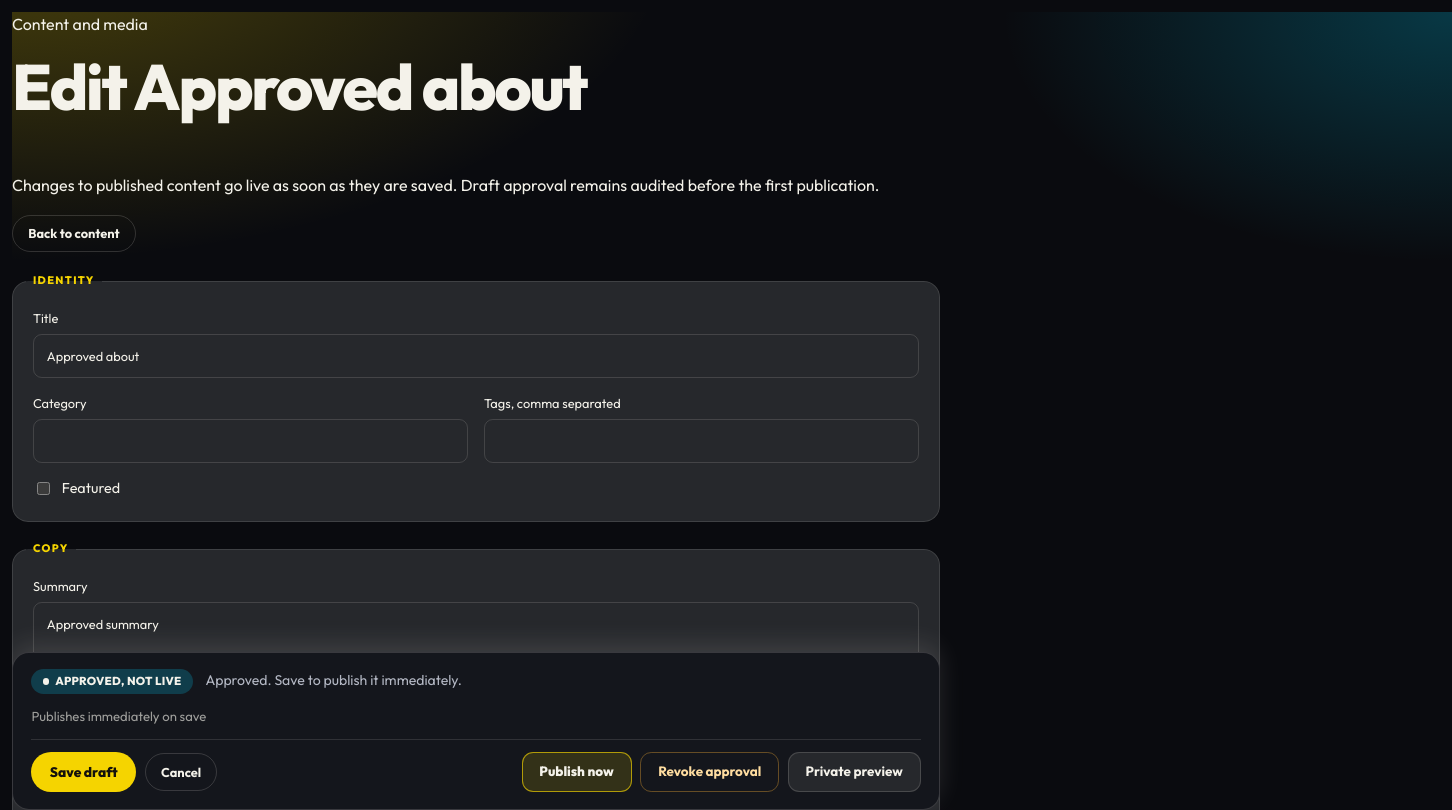
Test case: prepares deterministic cache invalidation after publication and reports queue failure
This screenshot has width=1452, height=810.
Click the button "Publish now": click(576, 772) [522, 752, 632, 792]
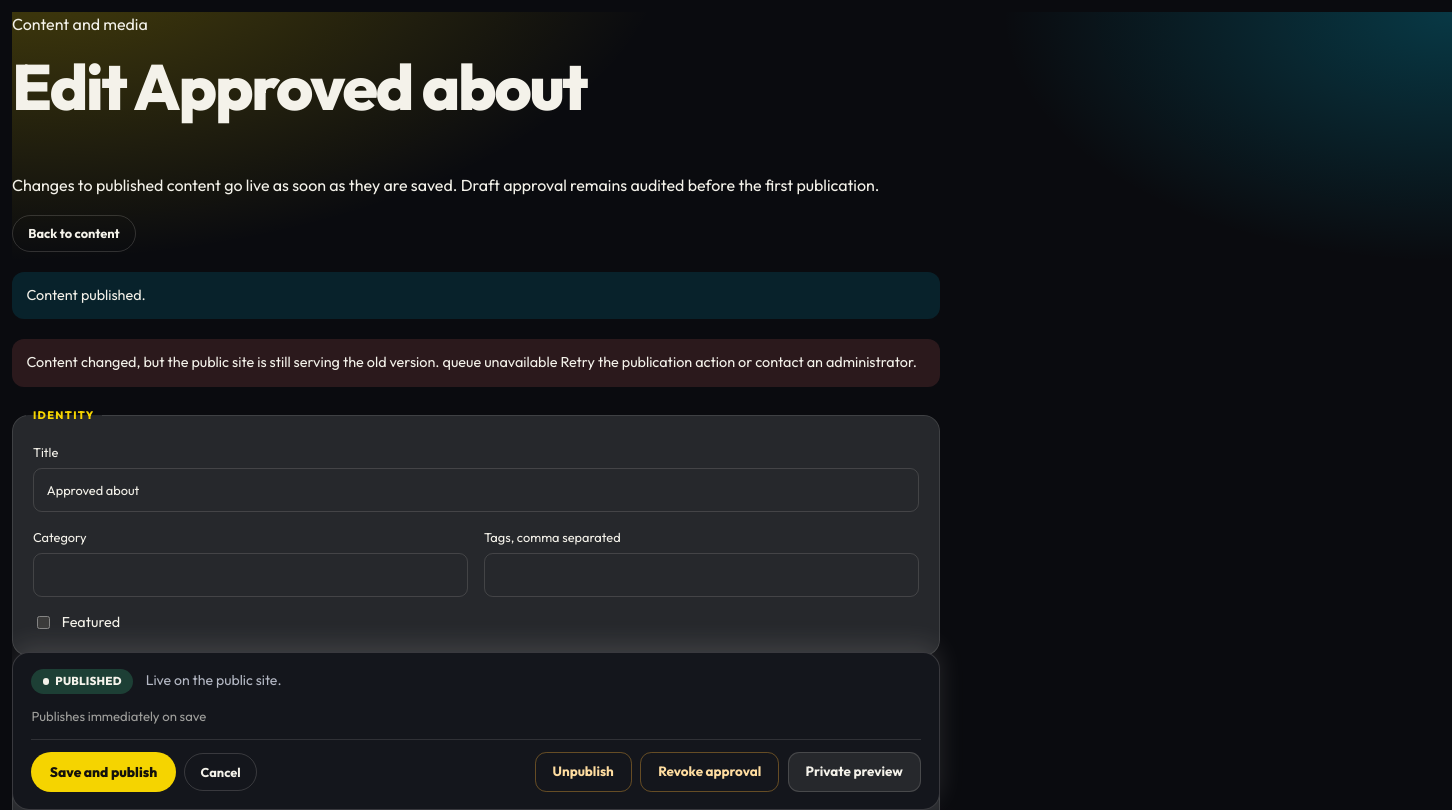
Expected: the 2nd message shows "still serving the old version", [26, 354, 917, 372]
Expected: the 2nd message shows "queue unavailable", [26, 354, 917, 372]
